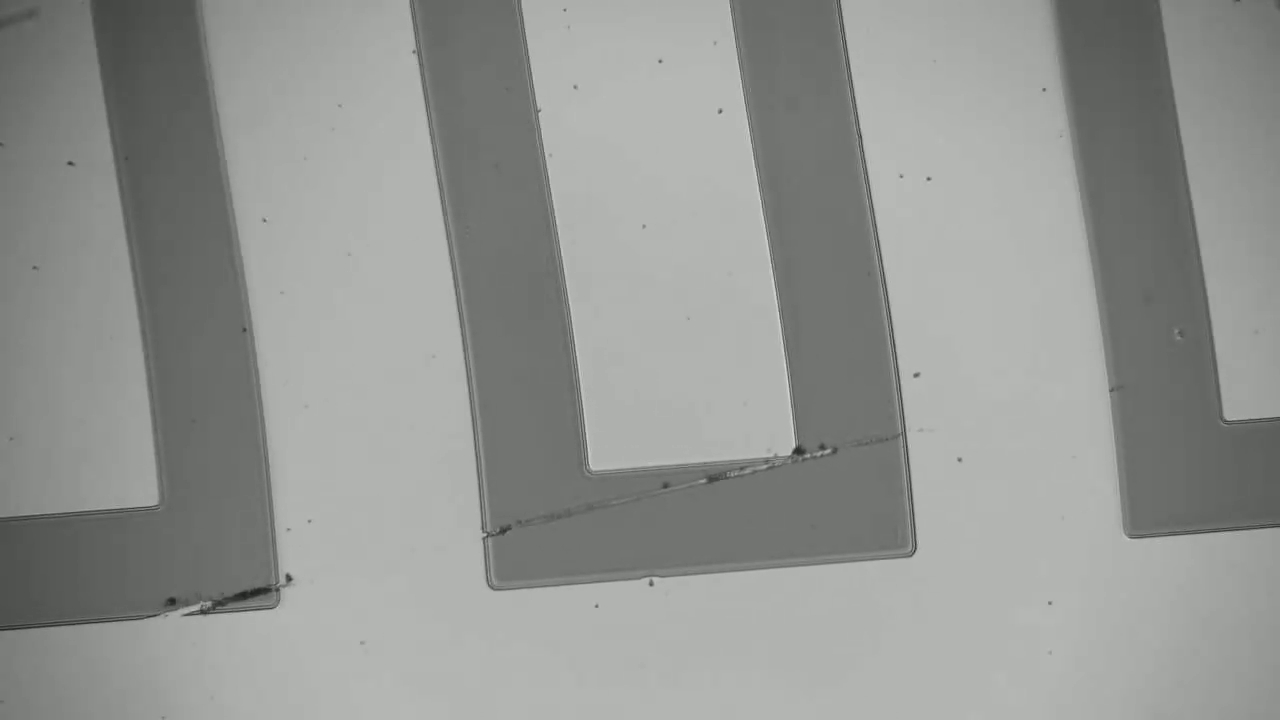scratch: (491, 429, 903, 539), (167, 580, 273, 614)
